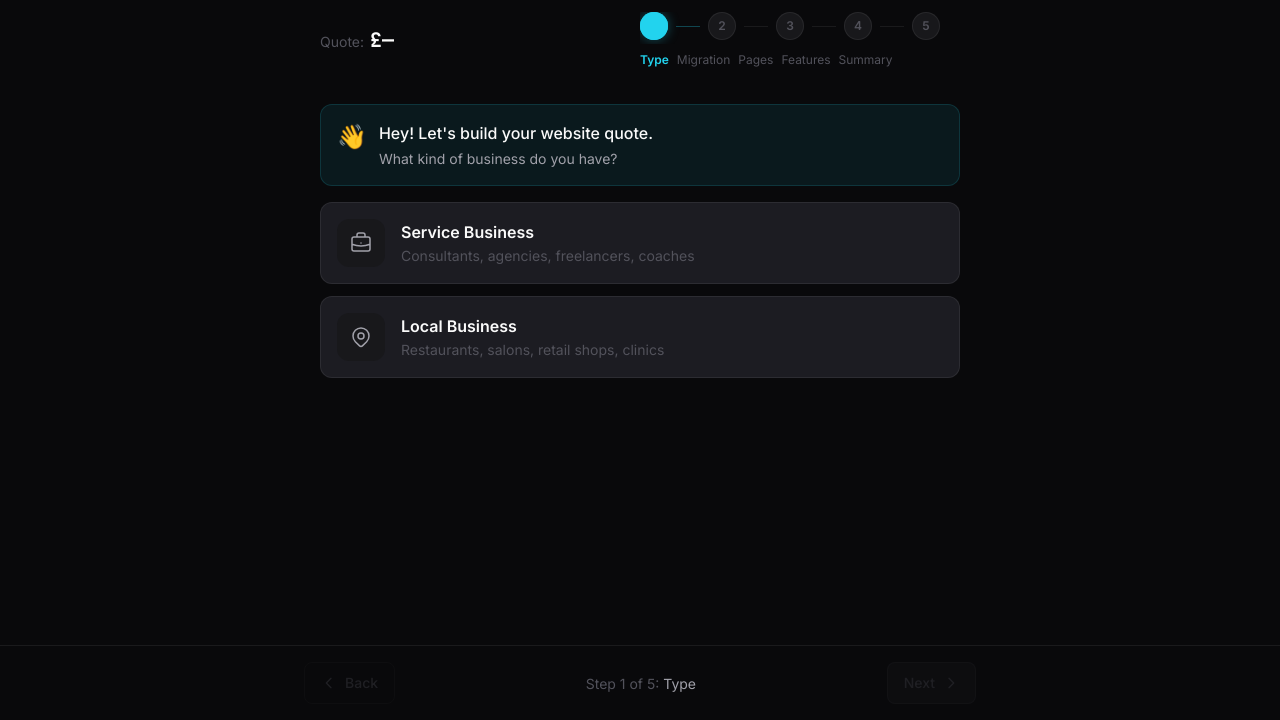
Test: QuoteFlow v2 › auto-advances to migration step after business type selection
Click the text "Service Business": click(468, 232) top-left (401, 222), bottom-right (534, 242)
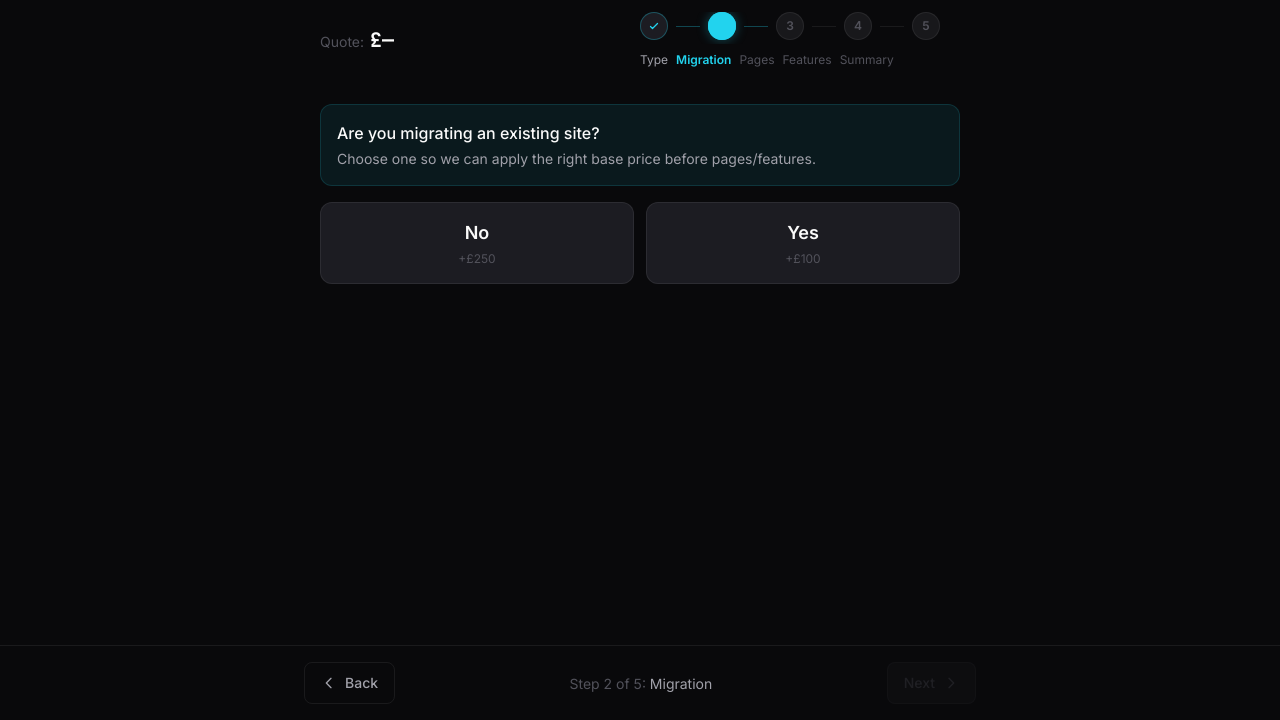
Now the text "Are you migrating an existing site?" is shown, box top-left (337, 123), bottom-right (600, 143)
